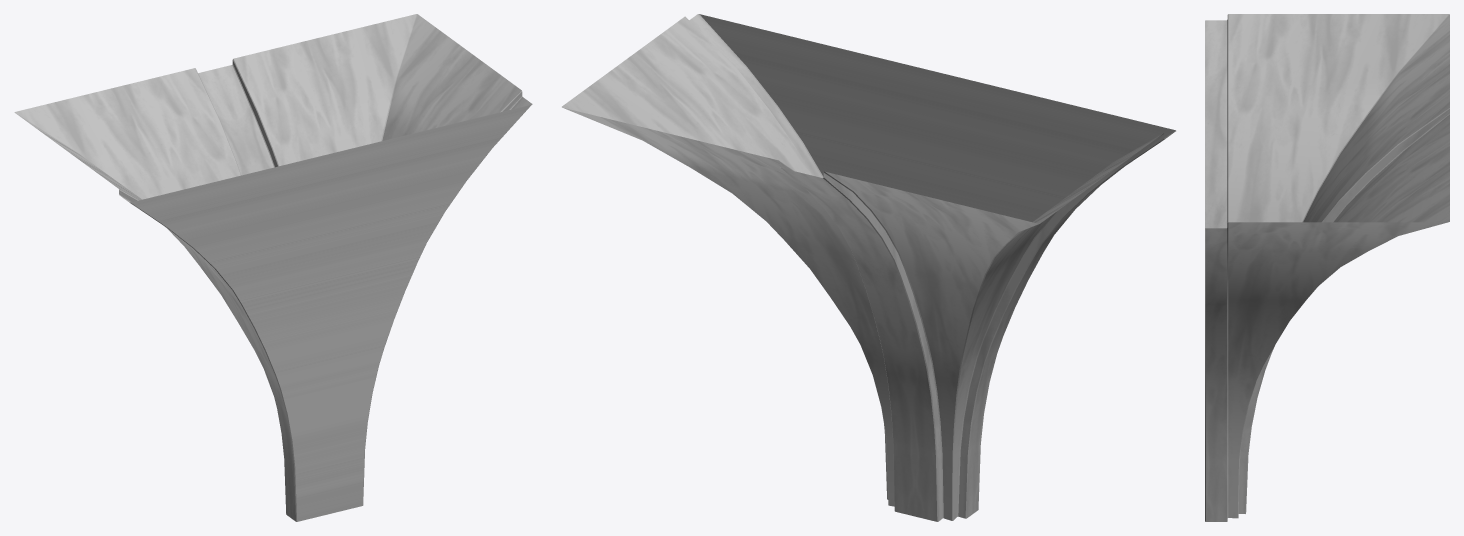
File: SM_Church_Ceiling_SmallHalf.fbx
3 renders of one model, left to right at view 1: azimuth 30°, elevation 25°; view 2: azimuth 150°, elevation 25°; view 3: azimuth 270°, elevation 25°, orthographic. The views are drawn at different scales.
Parts seen in each view (by area): view 1: SM_Ceiling_Small_Half; view 2: SM_Ceiling_Small_Half; view 3: SM_Ceiling_Small_Half.
Boxes of the visible parts, box(x1,y1,x2,y2) form: SM_Ceiling_Small_Half: box(14, 14, 532, 521); SM_Ceiling_Small_Half: box(562, 14, 1175, 521); SM_Ceiling_Small_Half: box(1205, 14, 1449, 521).
Size of the model in its own units: 614 by 532 by 305.
